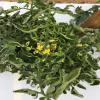Tomato leaf yellow virus: (13, 23, 45, 33), (7, 52, 24, 70), (57, 28, 79, 41), (1, 40, 23, 51), (51, 50, 67, 64), (50, 61, 66, 72), (77, 50, 86, 62), (58, 38, 67, 45)
